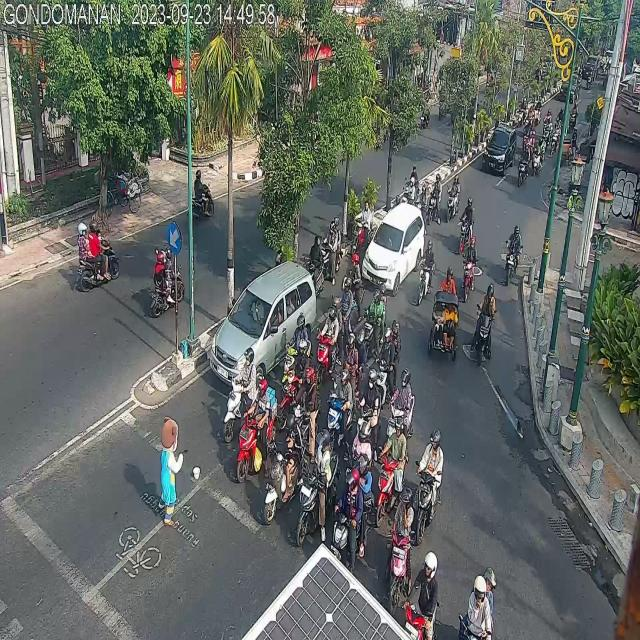car: (208, 260, 318, 380), (362, 201, 426, 296), (482, 122, 518, 176)
motorcycle: (332, 456, 371, 572), (262, 408, 302, 521), (299, 428, 337, 543), (236, 373, 274, 482), (414, 432, 446, 544), (384, 489, 414, 608), (373, 418, 406, 522), (224, 349, 259, 444), (76, 220, 120, 294), (280, 314, 310, 398), (150, 248, 185, 317), (387, 362, 414, 448), (318, 298, 342, 388), (328, 368, 354, 445), (472, 282, 496, 364), (356, 367, 381, 445), (187, 168, 214, 222), (416, 239, 435, 308), (505, 222, 522, 288), (462, 233, 477, 305), (459, 192, 473, 252), (428, 173, 442, 223), (446, 172, 460, 220), (518, 142, 530, 188), (533, 135, 546, 177)
